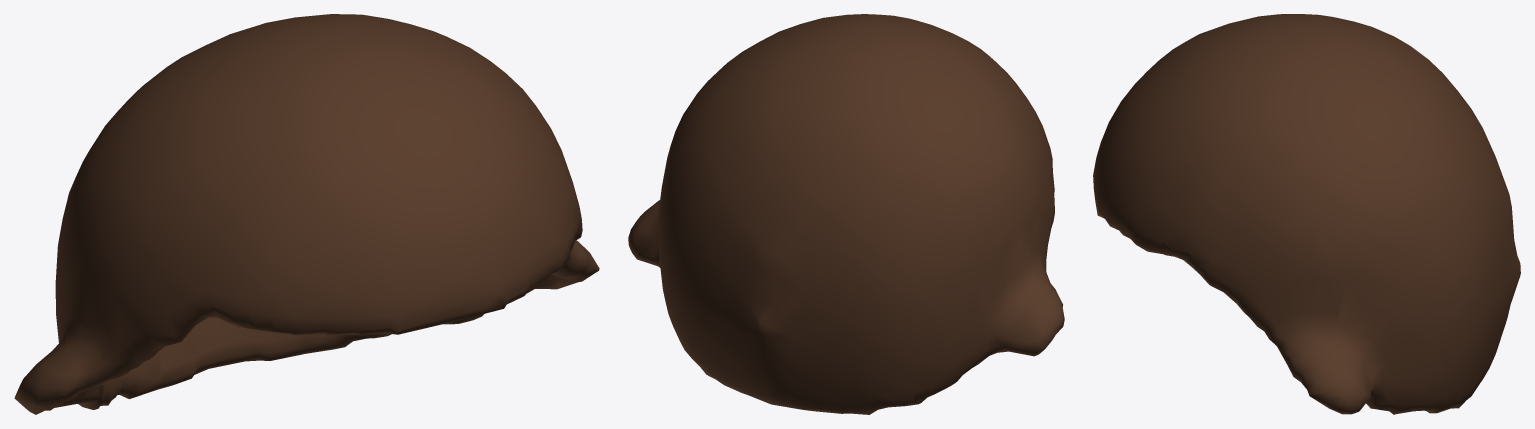
The model's file is hair_ponytail.glb.
3 renders of one model, left to right at view 1: azimuth 30°, elevation 25°; view 2: azimuth 150°, elevation 25°; view 3: azimuth 270°, elevation 25°, orthographic. The views are drawn at different scales.
Parts seen in each view (by area): view 1: HairPonytail.001; view 2: HairPonytail.001; view 3: HairPonytail.001.
Boxes of the visible parts, left/top/right/bottom form: HairPonytail.001: left=14, top=14, right=599, bottom=414; HairPonytail.001: left=628, top=14, right=1064, bottom=414; HairPonytail.001: left=1093, top=14, right=1520, bottom=414.
Size of the model in its own units: 0.3611 by 0.2513 by 0.2921.
